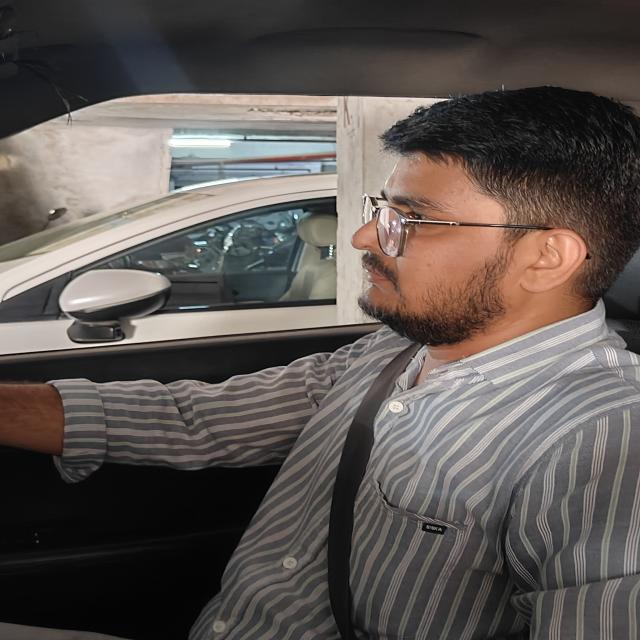seatbelt: (220, 329, 579, 640)
